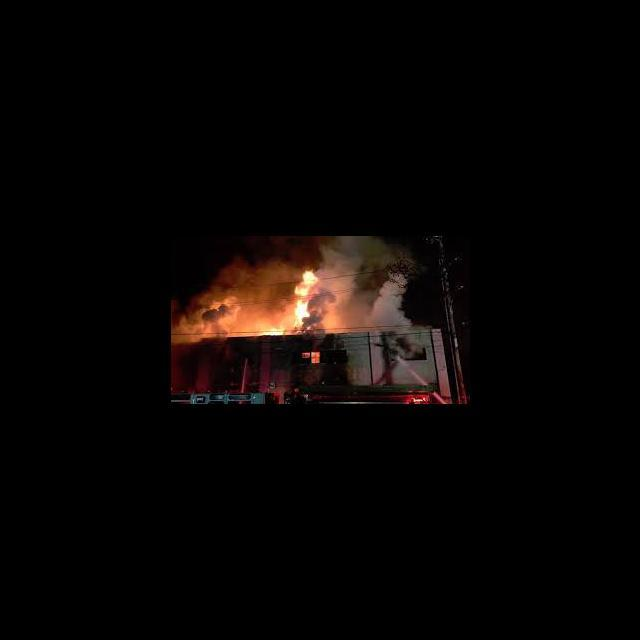Fire: (290, 268, 316, 328), (258, 326, 286, 336), (310, 352, 318, 364)
Smoke: (242, 250, 288, 326), (320, 238, 414, 275), (170, 288, 238, 334), (362, 272, 414, 332), (213, 248, 240, 294), (314, 292, 338, 332), (338, 296, 361, 330), (322, 276, 358, 292)
